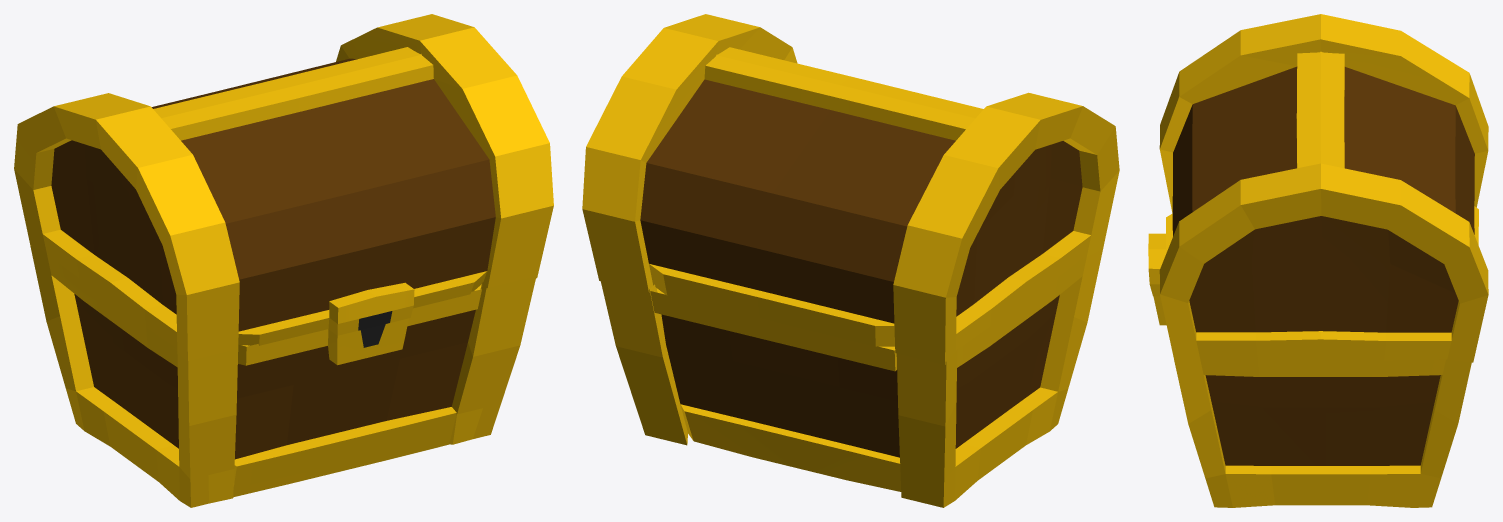
The model's file is chest.obj.
3 views of the same model, side by side, from view 1: azimuth 30°, elevation 25°; view 2: azimuth 150°, elevation 25°; view 3: azimuth 270°, elevation 25° (orthographic). The views are drawn at different scales.
Parts seen in each view (by area): view 1: chest; view 2: chest; view 3: chest.
Part boxes in pixels (<box>): chest: <box>14,14,553,507</box>; chest: <box>582,14,1119,507</box>; chest: <box>1148,14,1488,507</box>.
Size of the model in its own units: 2.58 by 2.32 by 2.12.
1 material, 1 textured.
